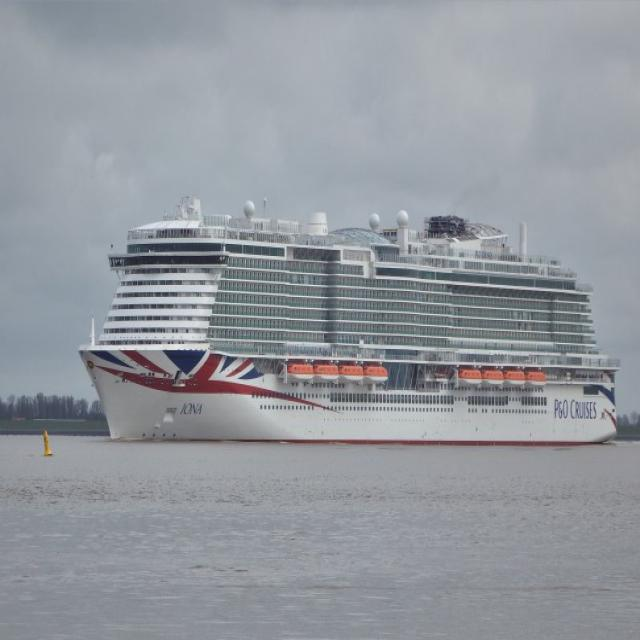cruises: (75, 176, 623, 456)
